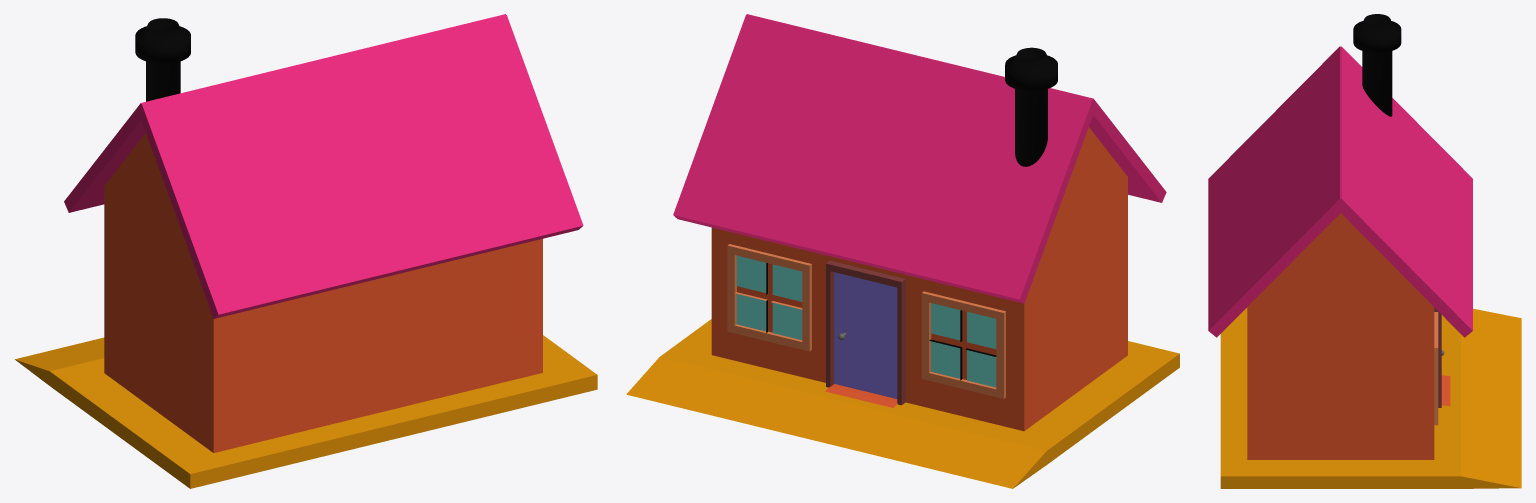
The model's file is house.glb.
The picture shows the model from 3 angles, left to right: view 1: azimuth 30°, elevation 25°; view 2: azimuth 150°, elevation 25°; view 3: azimuth 270°, elevation 25°; orthographic projection. The views are drawn at different scales.
Parts seen in each view (by area): view 1: Casa_0; view 2: Casa_0; view 3: Casa_0.
Boxes of the visible parts, bbox=[...] form: Casa_0: bbox=[15, 14, 597, 488]; Casa_0: bbox=[626, 14, 1179, 488]; Casa_0: bbox=[1208, 14, 1521, 488].
Bounding box in the file's own units: 13.6 × 12.18 × 10.59.
